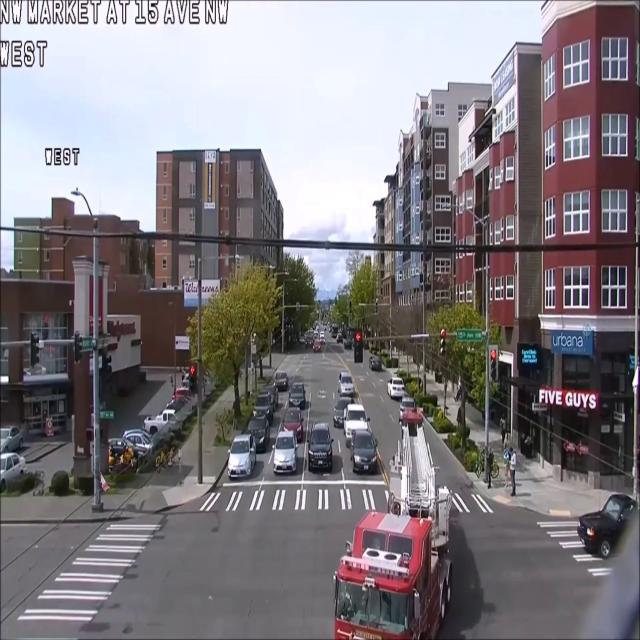traffic-light: (228, 434, 256, 479), (307, 423, 333, 471), (351, 430, 379, 473), (272, 430, 297, 473), (343, 405, 369, 439), (281, 408, 305, 443), (247, 416, 269, 452), (601, 493, 632, 514), (334, 398, 352, 427), (288, 383, 306, 409), (387, 375, 405, 400), (338, 372, 354, 398), (266, 383, 279, 408)
truck: (338, 395, 454, 640)
